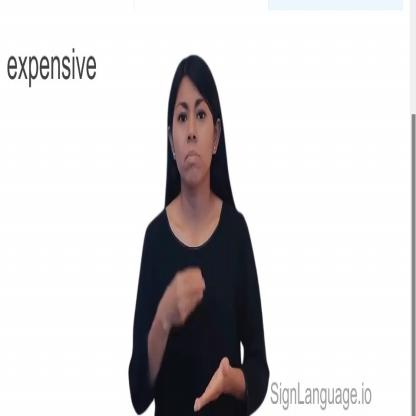Expensive: (135, 244, 268, 416)
